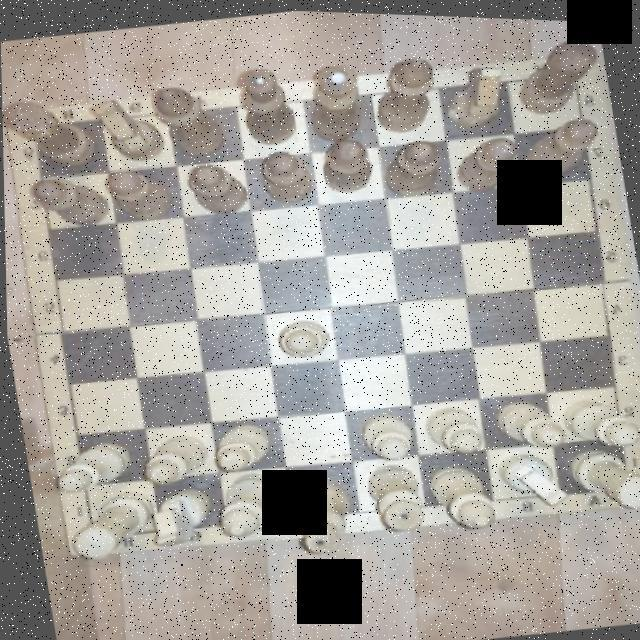chess-table-corners: (2, 104, 70, 156), (540, 46, 604, 98), (61, 508, 124, 560), (588, 454, 640, 508)
